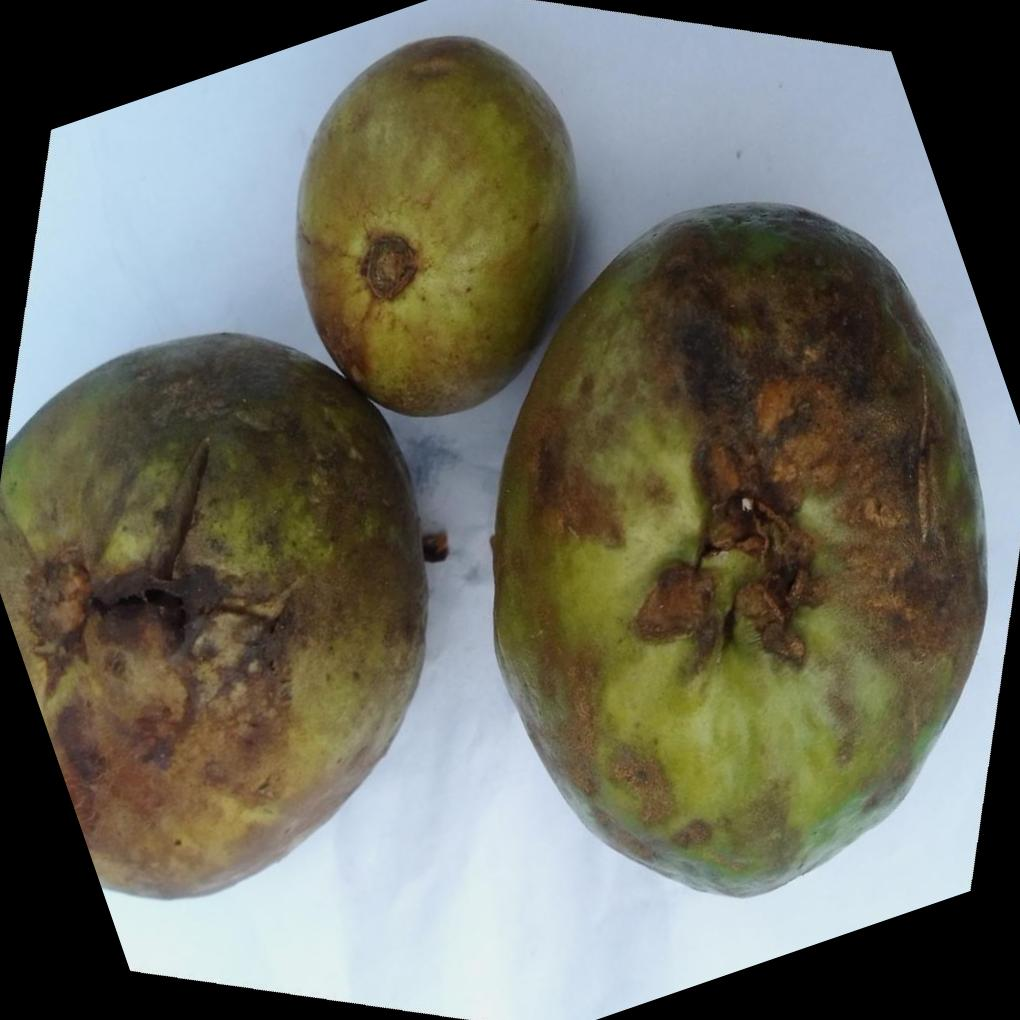FreshOrange: (0, 31, 989, 900)
